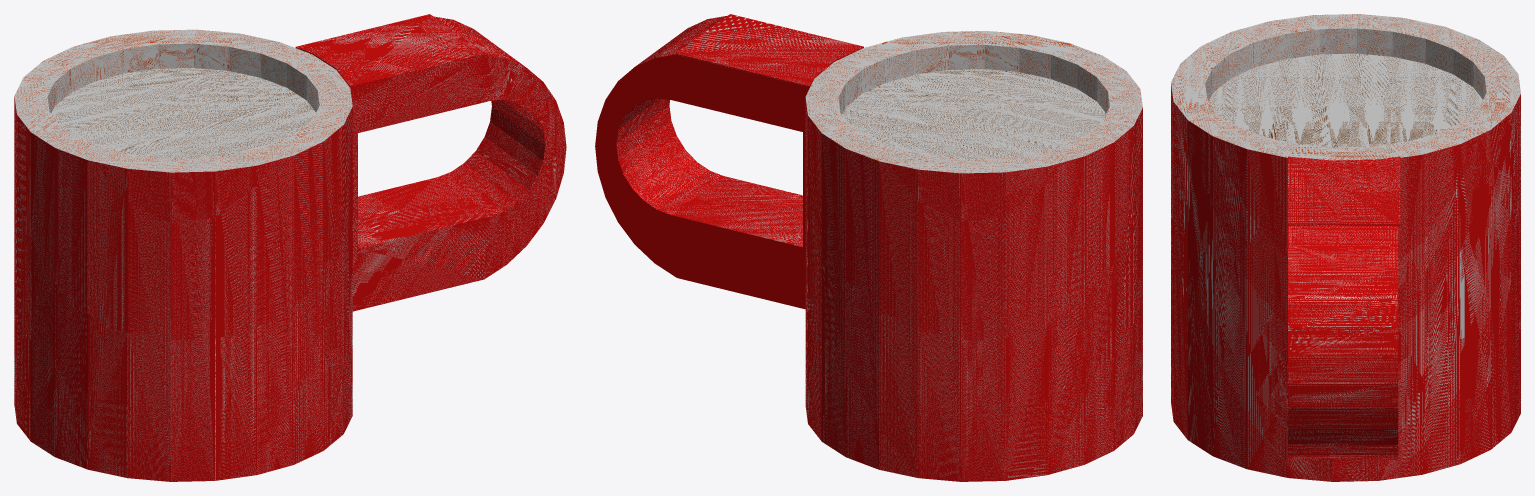
3 views of the same model, side by side, from view 1: azimuth 30°, elevation 25°; view 2: azimuth 150°, elevation 25°; view 3: azimuth 270°, elevation 25° (orthographic). The views are drawn at different scales.
Parts seen in each view (by area): view 1: mesh1_mesh1-geometry; view 2: mesh1_mesh1-geometry; view 3: mesh1_mesh1-geometry.
Part boxes in pixels (x1,y1,x2,y2): mesh1_mesh1-geometry: [14, 14, 566, 481]; mesh1_mesh1-geometry: [595, 14, 1142, 481]; mesh1_mesh1-geometry: [1171, 14, 1520, 481].
Size of the model in its own units: 0.7687 by 0.4553 by 0.4492.
